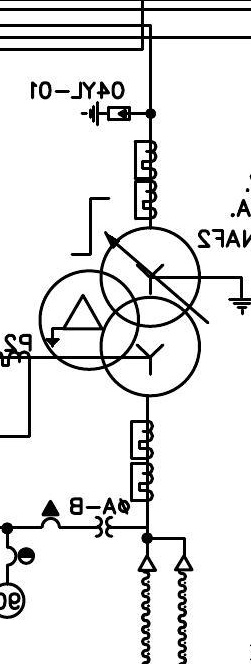11522_tx_ynyn0d1: (37, 225, 202, 399)
115_la: (80, 100, 132, 127)
terminator_double: (137, 536, 194, 572)
